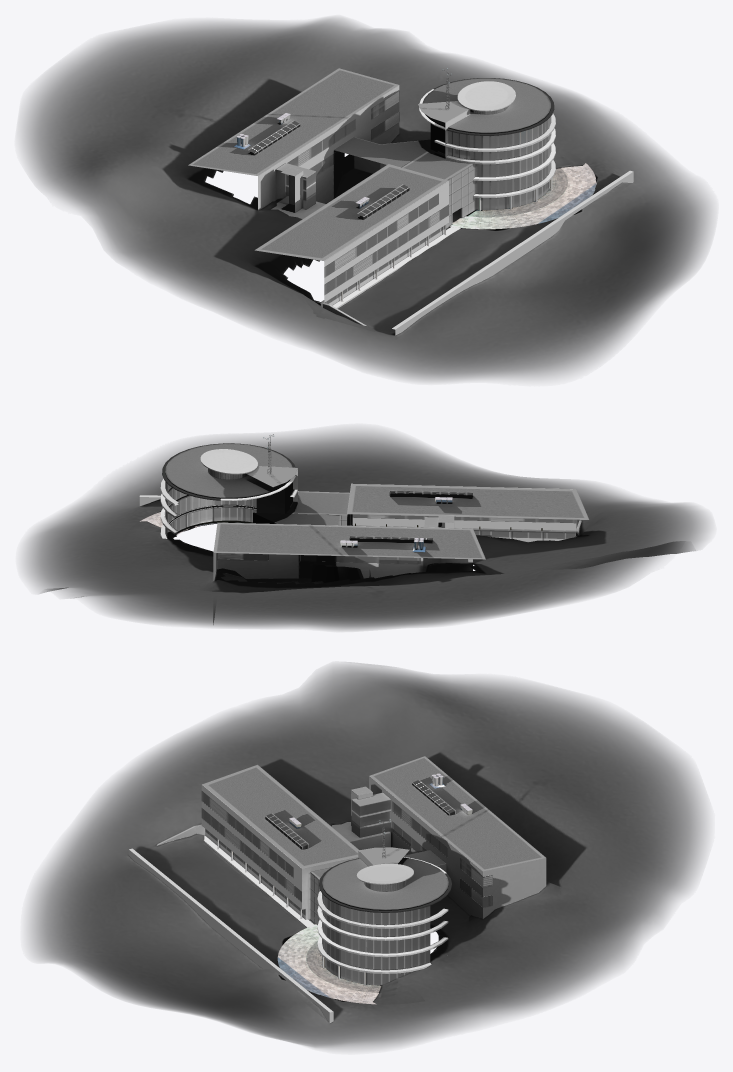
File: institute_3d_des.glb
3 views of the same model, one above another, from view 1: azimuth 30°, elevation 25°; view 2: azimuth 150°, elevation 25°; view 3: azimuth 270°, elevation 25° (orthographic).
Visible parts, largest first — view 1: Ground.001, front_top_windows.002, outer_btickpath_mesh.001, frontWall, innerBricks, underpillars; view 2: Ground.001, front_top_windows.002; view 3: Ground.001, front_top_windows.002, outer_btickpath_mesh.001, frontWall, innerBricks, underpillars.
Part boxes in pixels (x1,y1,x2,y2): Ground.001: (21, 18, 711, 381); front_top_windows.002: (188, 68, 555, 326); outer_btickpath_mesh.001: (449, 163, 596, 229); frontWall: (392, 170, 633, 335); innerBricks: (466, 168, 567, 217); underpillars: (332, 227, 461, 308); Ground.001: (24, 429, 708, 630); front_top_windows.002: (160, 443, 589, 624); Ground.001: (29, 663, 706, 1049); front_top_windows.002: (156, 756, 546, 985); outer_btickpath_mesh.001: (277, 924, 378, 1004); frontWall: (128, 848, 333, 1022); innerBricks: (306, 941, 395, 992); underpillars: (204, 835, 314, 927).
Size of the model in its own units: 153 by 38.54 by 153.
Materials: 9 (4 with a texture image).
